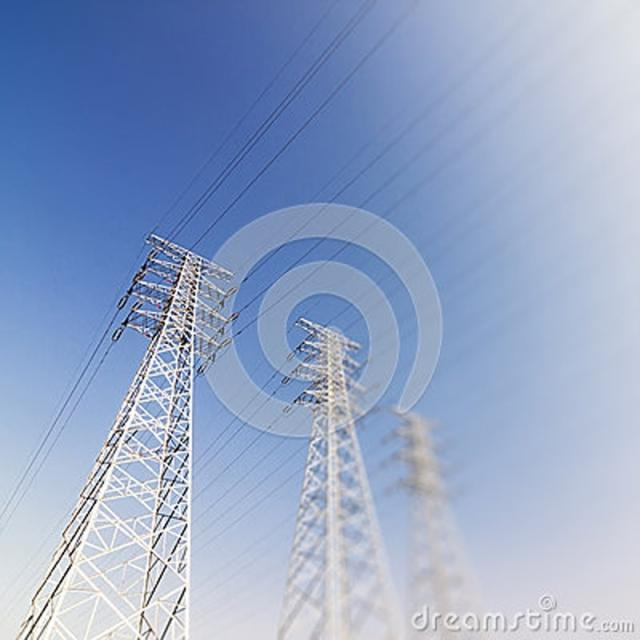non-critical vegetation: (64, 222, 207, 630)
